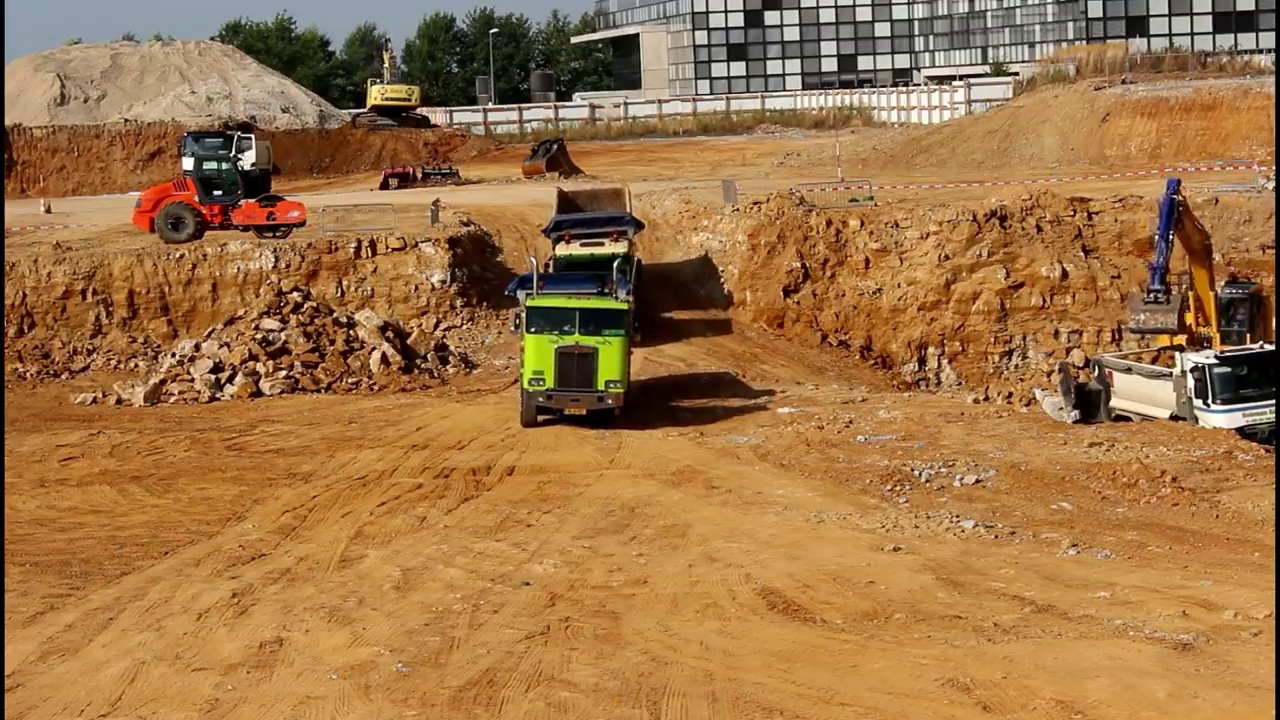compactor: (130, 155, 310, 241)
excavator: (1123, 169, 1280, 395), (348, 34, 434, 128)
truck: (1084, 338, 1280, 466), (506, 254, 641, 434), (538, 182, 648, 323), (178, 120, 285, 203)
